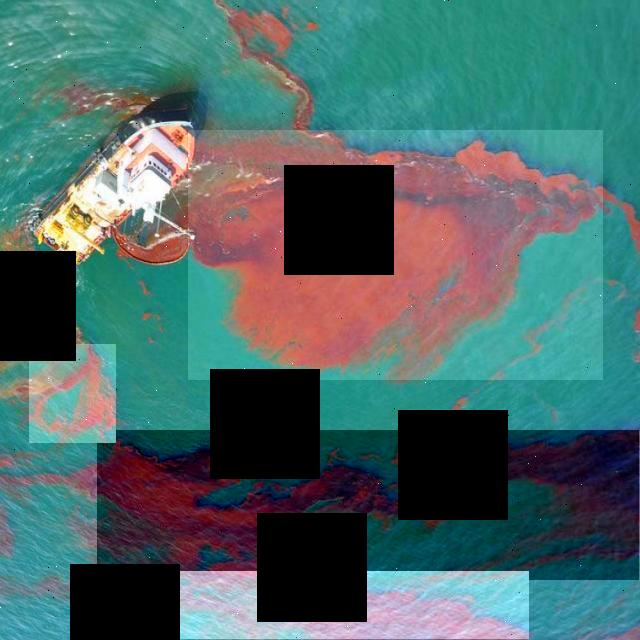oil spill: (189, 131, 603, 380), (98, 430, 639, 580), (87, 571, 529, 640), (215, 0, 313, 130), (30, 345, 116, 443)
